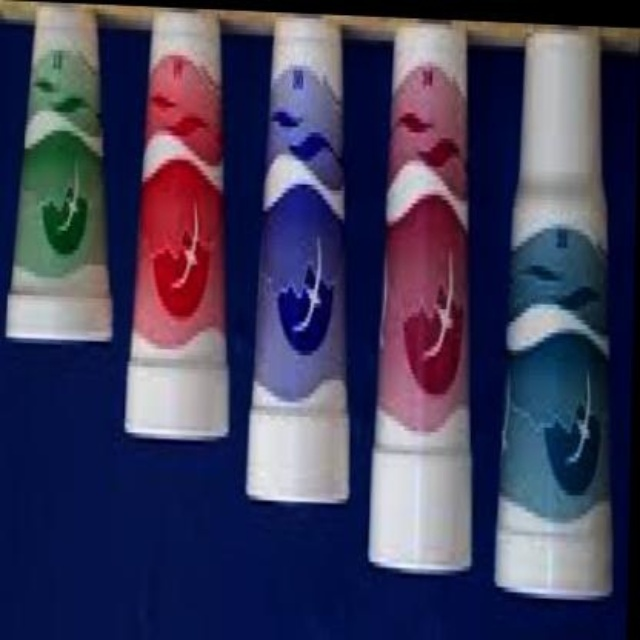trash: (495, 29, 611, 595), (369, 23, 469, 569), (246, 18, 348, 502), (125, 11, 226, 437), (6, 6, 109, 338)
